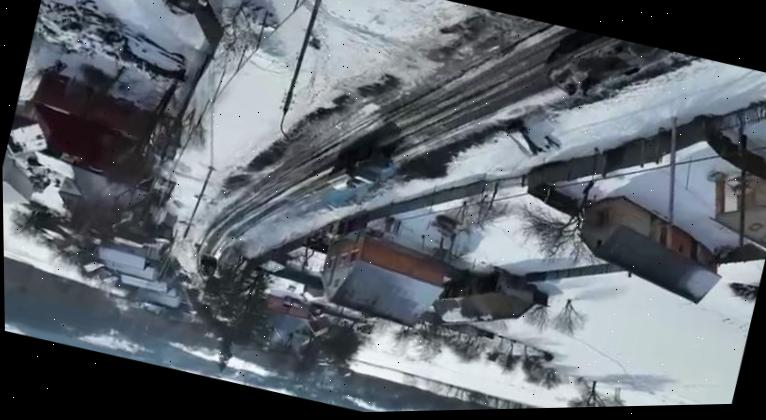tank: (537, 21, 676, 121)
truck: (324, 136, 395, 201), (192, 249, 219, 283)
